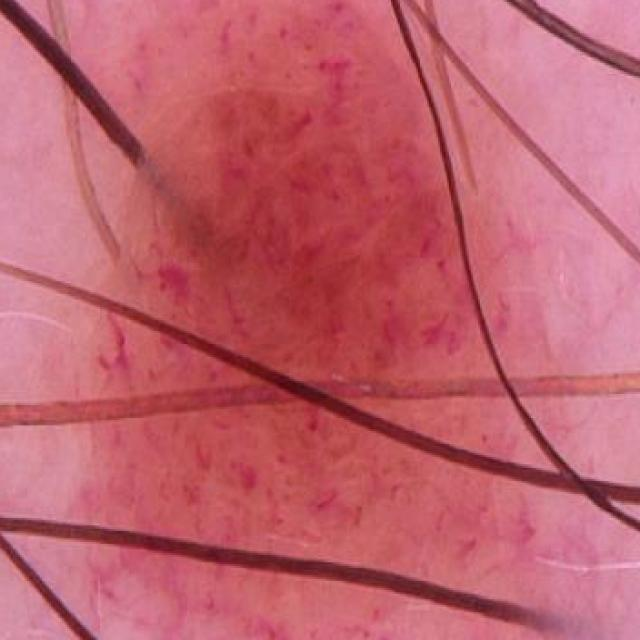NV: (62, 0, 580, 640)
